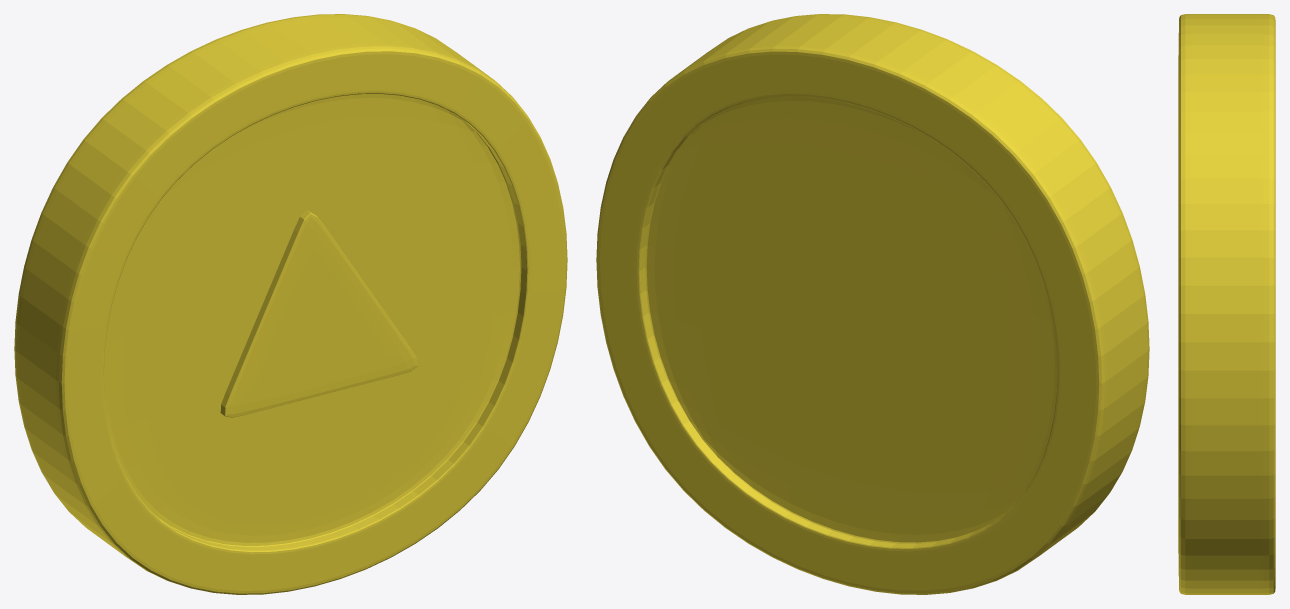
File: Coin.fbx_Collection.fbx
The picture shows the model from 3 angles, left to right: view 1: azimuth 30°, elevation 25°; view 2: azimuth 150°, elevation 25°; view 3: azimuth 270°, elevation 25°; orthographic projection. The views are drawn at different scales.
Parts seen in each view (by area): view 1: Cube, Cube.001; view 2: Cube; view 3: Cube.
Boxes of the visible parts, x1,y1,x2,y2 form: Cube: [14, 14, 567, 594]; Cube.001: [220, 210, 417, 417]; Cube: [596, 14, 1149, 594]; Cube: [1178, 14, 1275, 594].
Bounding box in the file's own units: 183 × 183 × 31.13.
